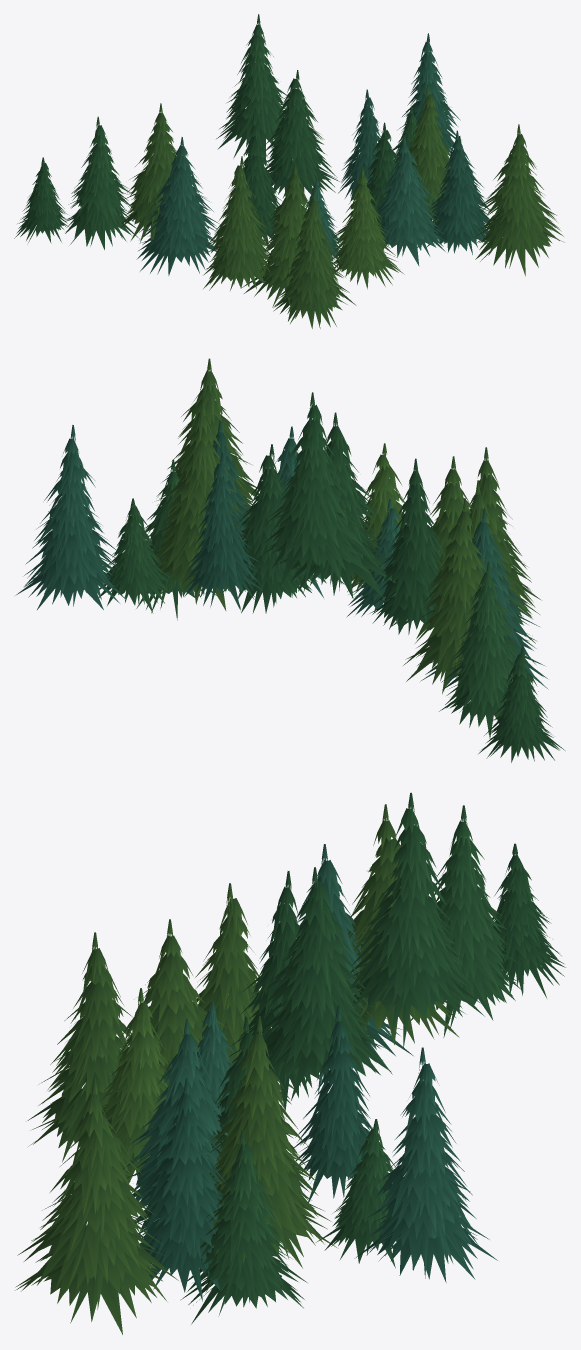
File: pine_20.glb
The picture shows the model from 3 angles, top to bottom: view 1: azimuth 30°, elevation 25°; view 2: azimuth 150°, elevation 25°; view 3: azimuth 270°, elevation 25°; orthographic projection. The views are drawn at different scales.
Visible parts, largest first — view 1: pine_20; view 2: pine_20; view 3: pine_20.
Boxes of the visible parts, x1,y1,x2,y2 form: pine_20: (14, 14, 564, 328); pine_20: (15, 358, 565, 762); pine_20: (15, 792, 565, 1334).
Bounding box in the file's own units: 43.06 × 22.07 × 28.45.
1 material, 1 textured.
